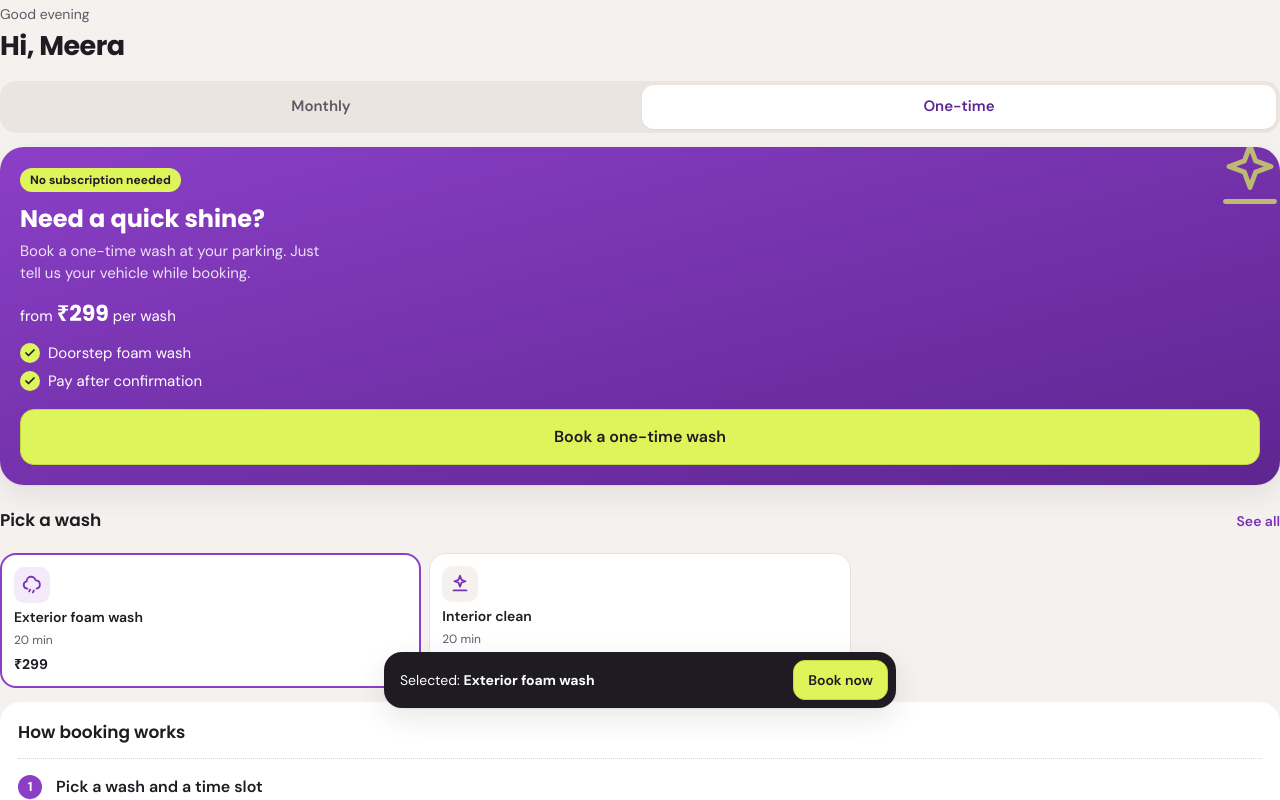
Test case: customer dashboard › no plan opens on One-time: hero, tiles that select, sticky bar
This screenshot has width=1280, height=800.
expect the text "Good evening" is shown: met, box [0, 5, 90, 23]
expect the heading "Hi, Meera" is shown: met, box [0, 27, 125, 64]
Click the button "Interior clean 20 min ₹499".
click(460, 584)  # box [429, 552, 851, 688]
(page scrolled)
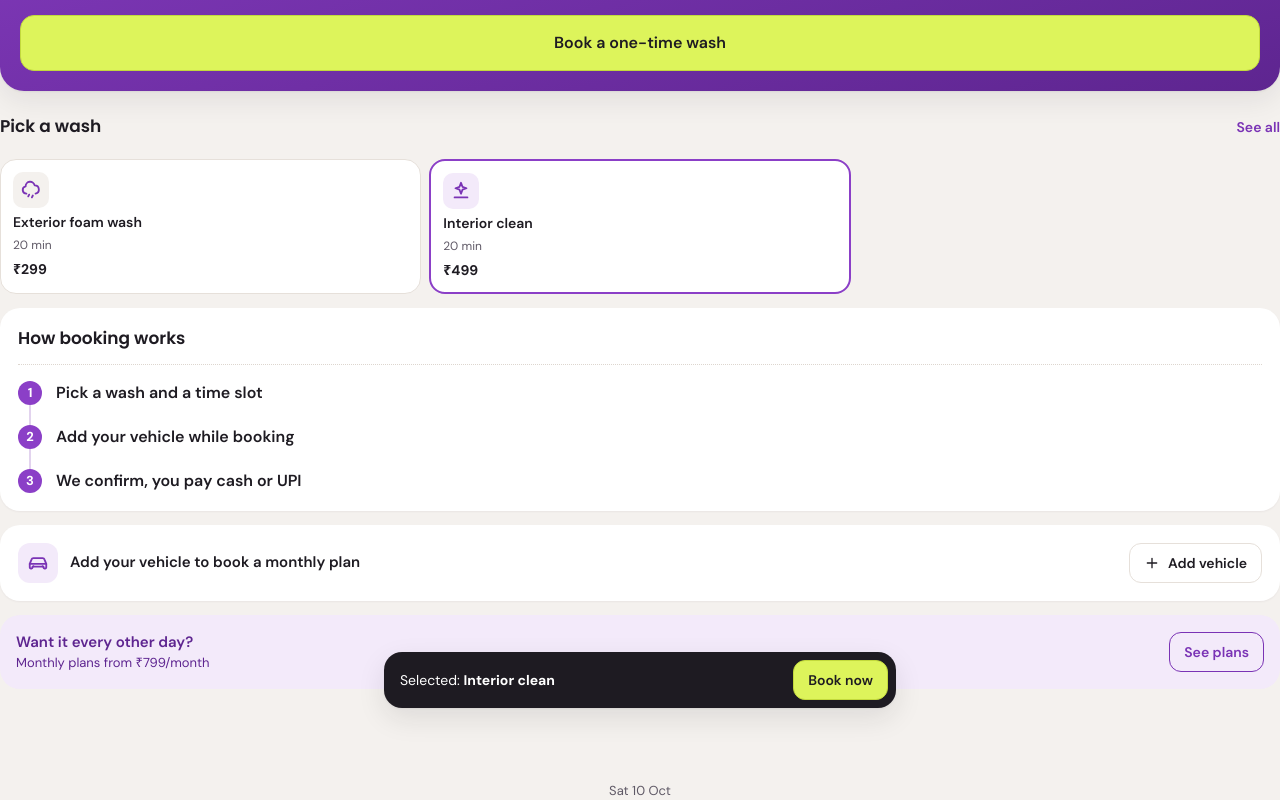
expect the text "Monthly plans from ₹799/month" is shown: met, box [16, 654, 210, 671]
expect the text "Interior clean" next to "Selected:" is shown: met, box [464, 671, 555, 689]
